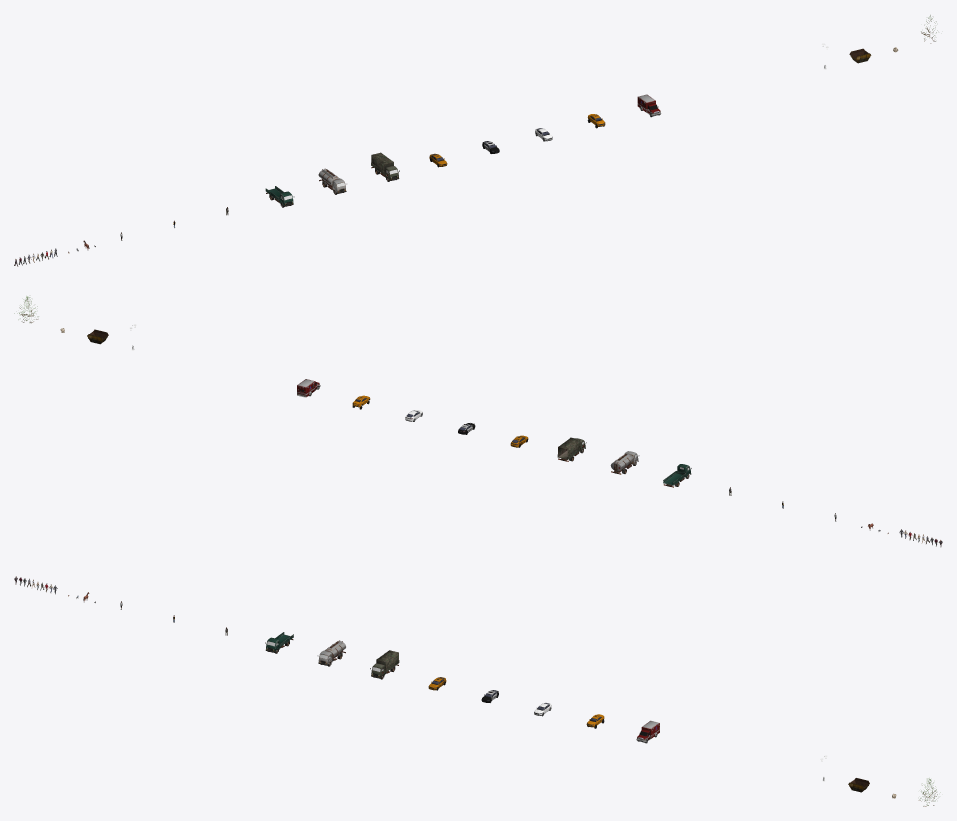
File: taxi.glb
3 renders of one model, top to bottom at view 1: azimuth 30°, elevation 25°; view 2: azimuth 150°, elevation 25°; view 3: azimuth 330°, elevation 25°, orthographic.
Visible parts, largest first — view 1: tx_truck_box_body; view 2: no part large enough to name; view 3: tx_truck_box_body.
Boxes of the visible parts, x1,y1,x2,y2 form: tx_truck_box_body: [371, 152, 399, 181]; tx_truck_box_body: [370, 650, 399, 679].
Size of the model in its own units: 211 by 6.35 by 7.4.
29 materials, 24 textured.
